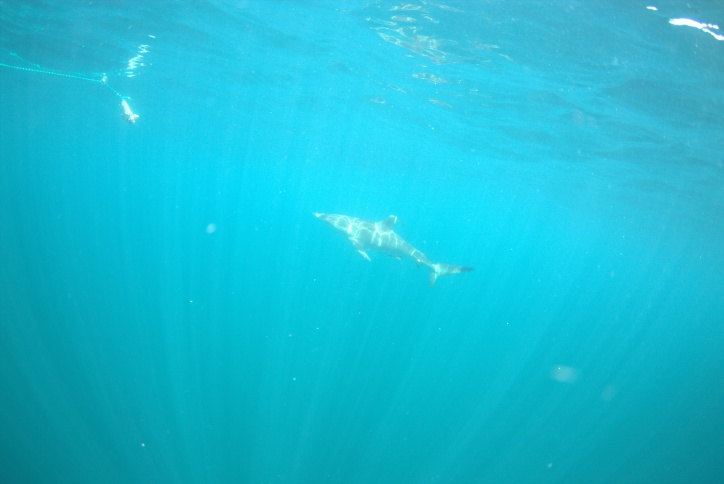Sedoso: (303, 189, 487, 300)
